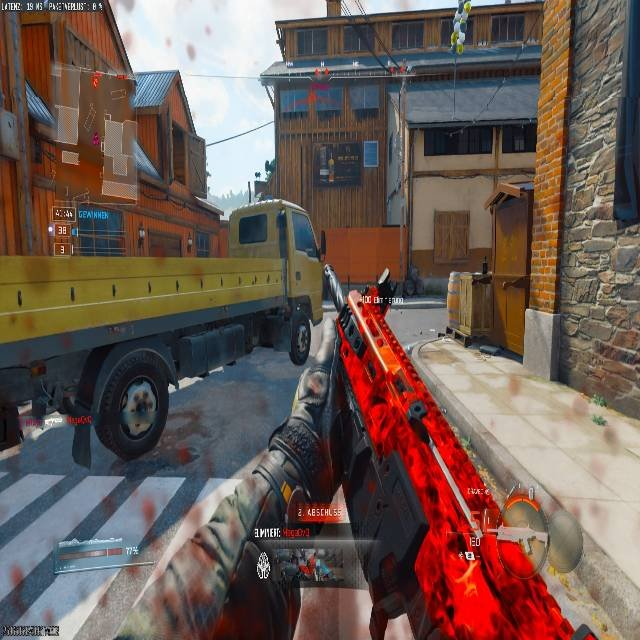player: (376, 269, 396, 312)
